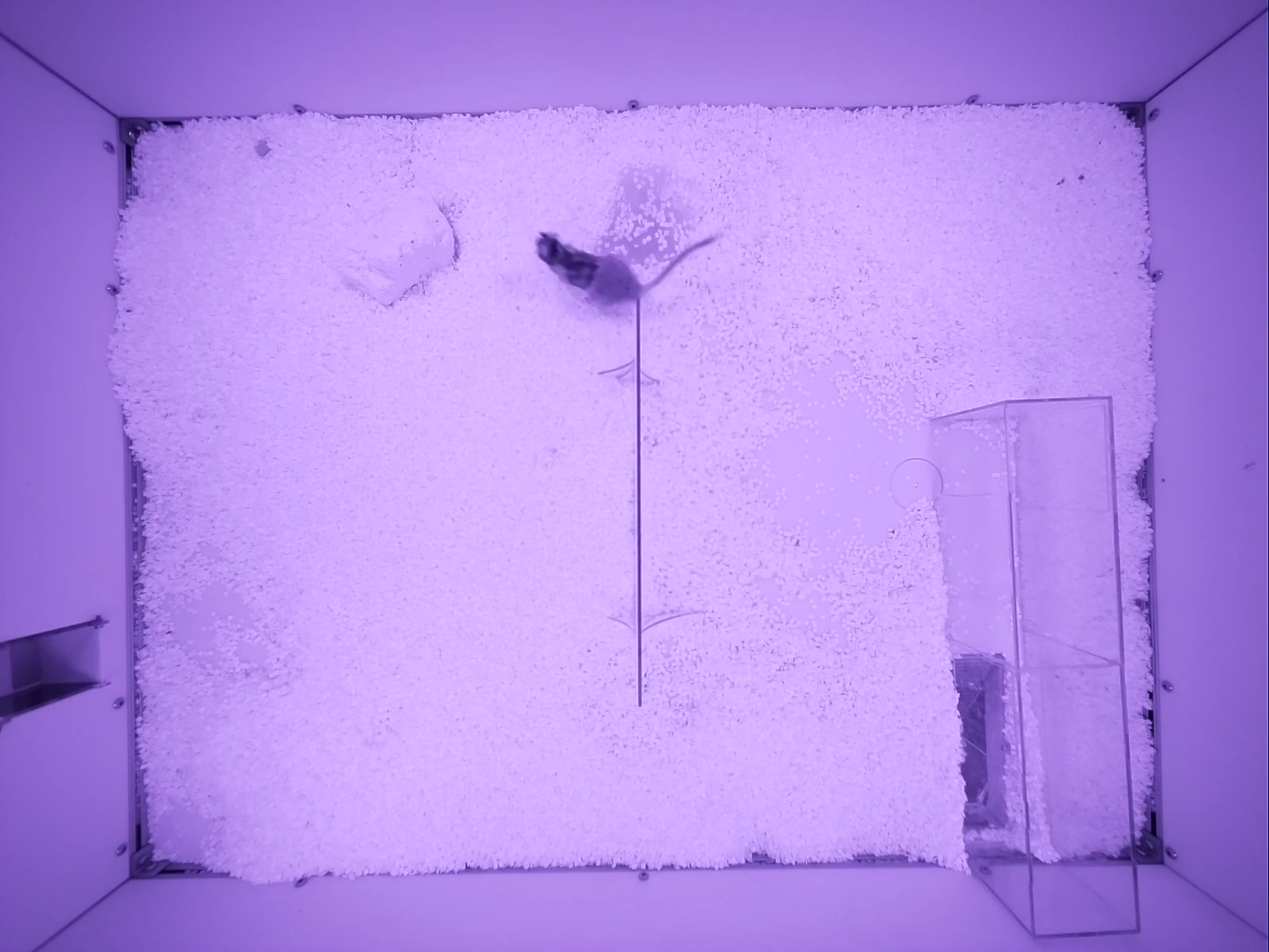adult_back: (536, 232, 716, 304)
